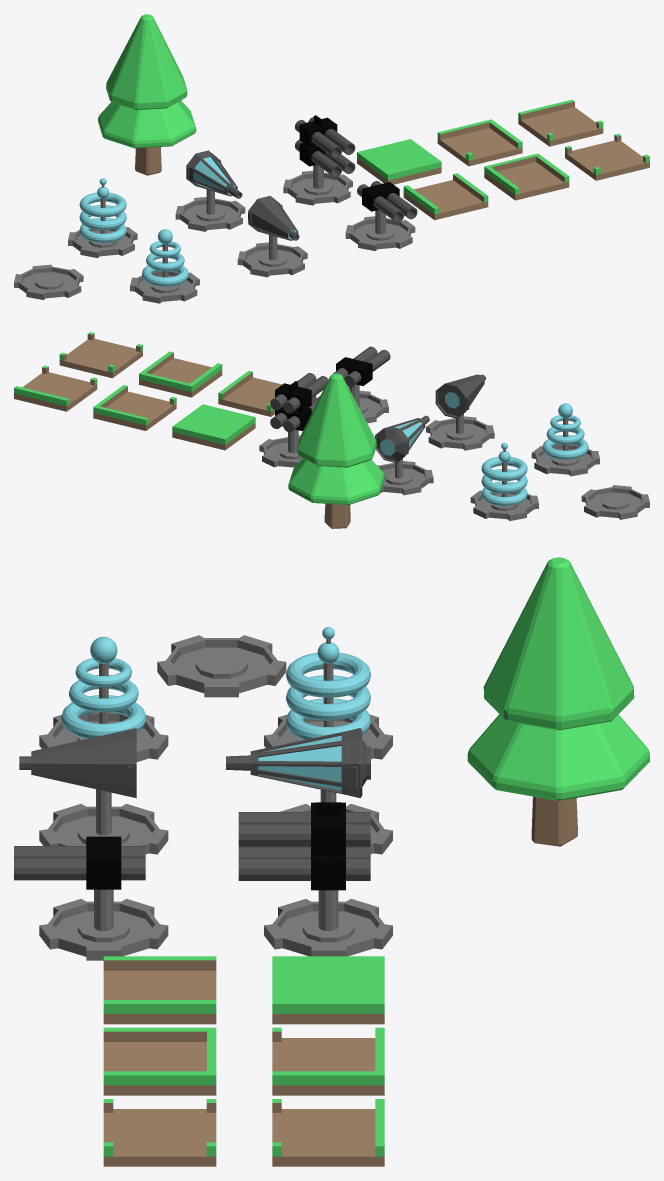
The model's file is Turrets-tower-defence-assets.fbx.
3 views of the same model, one above another, from view 1: azimuth 30°, elevation 25°; view 2: azimuth 150°, elevation 25°; view 3: azimuth 270°, elevation 25° (orthographic). The views are drawn at different scales.
Visible parts, largest first — view 1: Tree, GroundTile.003, GroundTile.002, GroundTile, GroundTile.004, Turret2.Level2.Top, GroundTile.001, GroundTile.005, Turret3.Level2.Top, Turret1.Bottom.001, Turret1.Level2.Bottom, Turret2.Bottom.001 (+8 smaller); view 2: Tree, GroundTile, GroundTile.002, GroundTile.003, GroundTile.005, GroundTile.004, Turret2.Level2.Top, Turret3.Level2.Top, Turret1.Bottom.001, Socle, GroundTile.001, Turret3.Top (+8 smaller); view 3: Tree, Turret2.Level2.Top, GroundTile.001, GroundTile.002, GroundTile, GroundTile.005, GroundTile.003, GroundTile.004, Turret2.Bottom.001, Turret2.Level2.Bottom, Turret3.Level2.Top, Turret1.Level2.Top (+8 smaller).
Part boxes in pixels (box(x1,y1,x2,y2)): Tree: box(98, 14, 196, 175); GroundTile.003: box(437, 119, 522, 166); GroundTile.002: box(484, 153, 569, 200); GroundTile: box(357, 139, 441, 184); GroundTile.004: box(518, 99, 603, 146); Turret2.Level2.Top: box(295, 115, 355, 177); GroundTile.001: box(403, 173, 488, 220); GroundTile.005: box(565, 133, 649, 180); Turret3.Level2.Top: box(79, 178, 126, 242); Turret1.Bottom.001: box(237, 235, 307, 277); Turret1.Level2.Bottom: box(175, 189, 245, 231); Turret2.Bottom.001: box(345, 210, 415, 250); Tree: box(288, 373, 384, 528); GroundTile: box(172, 404, 255, 450); GroundTile.002: box(139, 351, 222, 397); GroundTile.003: box(93, 385, 176, 430); GroundTile.005: box(59, 332, 142, 378); GroundTile.004: box(14, 365, 97, 411); Turret2.Level2.Top: box(270, 373, 328, 432); Turret3.Level2.Top: box(481, 442, 527, 506); Turret1.Bottom.001: box(426, 414, 494, 450); Socle: box(581, 485, 649, 519); GroundTile.001: box(218, 371, 282, 416); Turret3.Top: box(542, 403, 588, 459); Tree: box(467, 557, 649, 846); Turret2.Level2.Top: box(238, 802, 370, 890); GroundTile.001: box(103, 956, 216, 1024); GroundTile.002: box(103, 1027, 216, 1095); GroundTile: box(272, 956, 384, 1024); GroundTile.005: box(103, 1099, 216, 1166); GroundTile.003: box(272, 1027, 384, 1095); GroundTile.004: box(272, 1099, 384, 1166); Turret2.Bottom.001: box(39, 889, 168, 960); Turret2.Level2.Bottom: box(264, 890, 392, 956); Turret3.Level2.Top: box(286, 627, 370, 739); Turret1.Level2.Top: box(226, 728, 370, 797).
Bounding box in the file's own units: 2218 × 548 × 1132.
